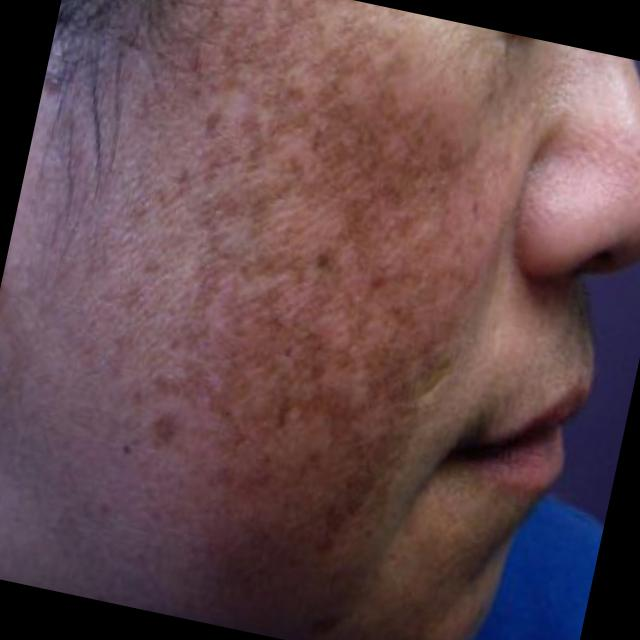melasma: (81, 0, 513, 608)
